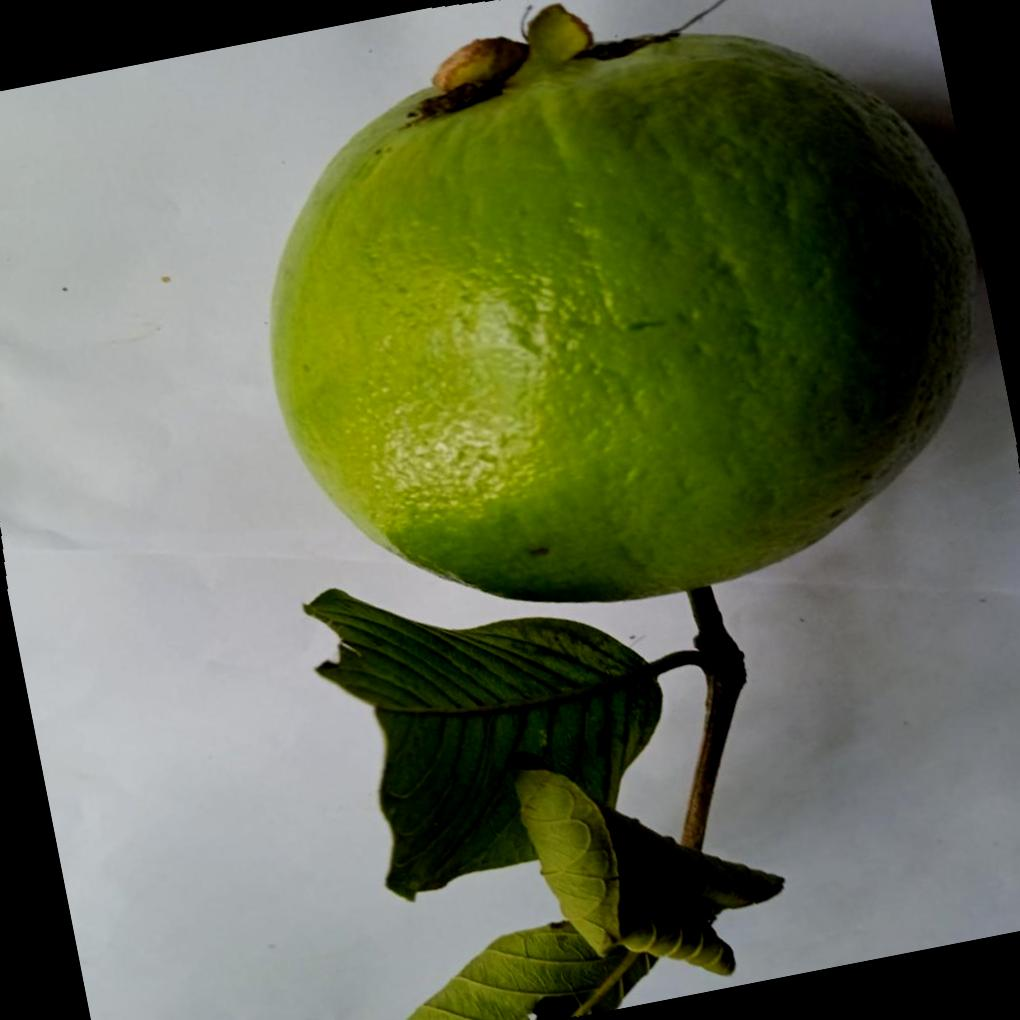FreshGuava: (266, 1, 975, 599)
